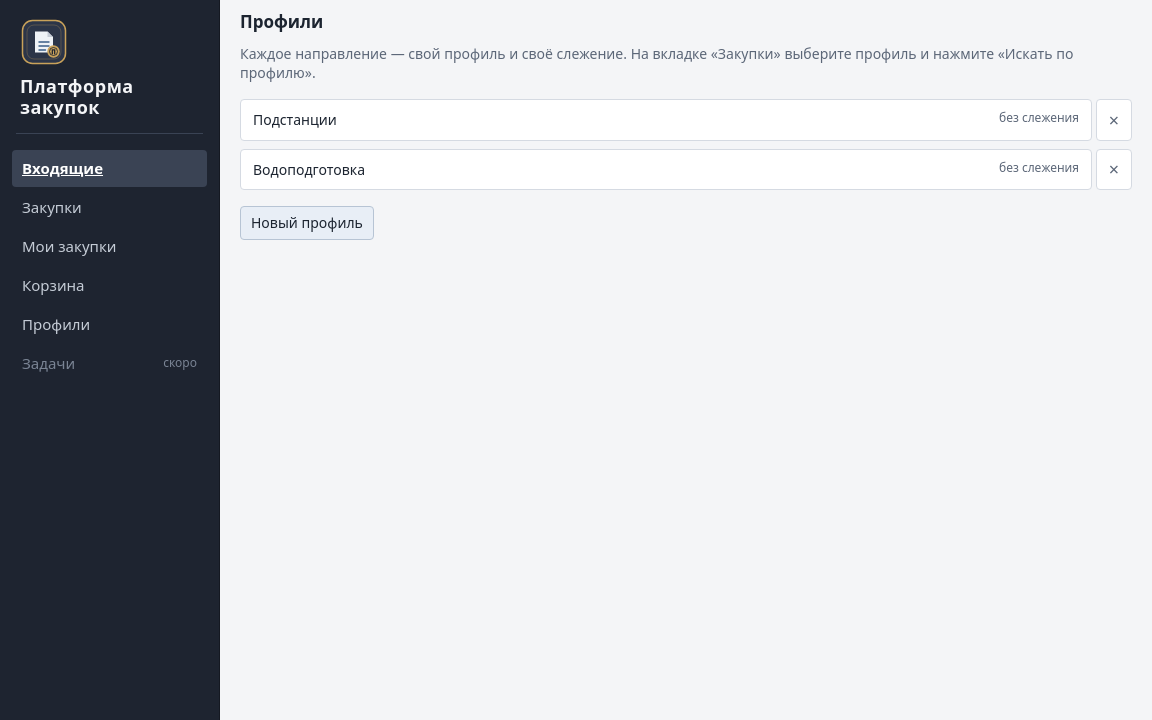
Test: ProfileList › surfaces a delete failure instead of swallowing it
Click the button named "Удалить профиль «Водоподготовка»".
click(1114, 169)  # box [1096,149,1132,190]
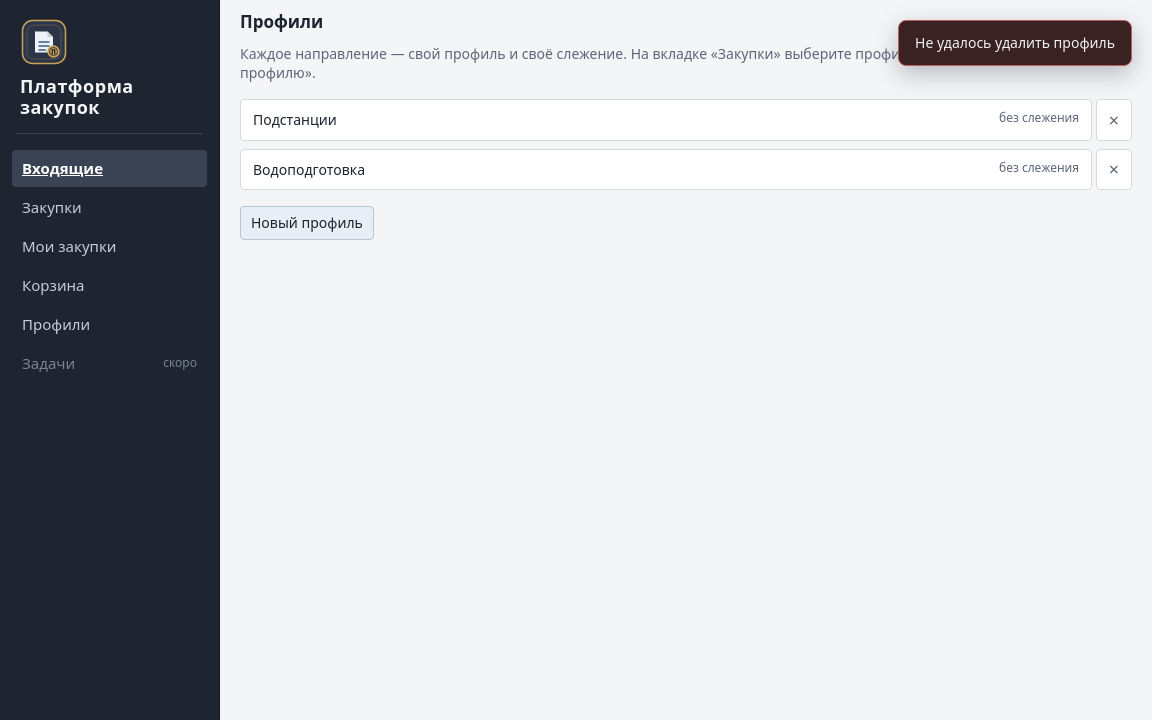
Result: the message reads "Не удалось удалить профиль" at [915,33,1115,52]
